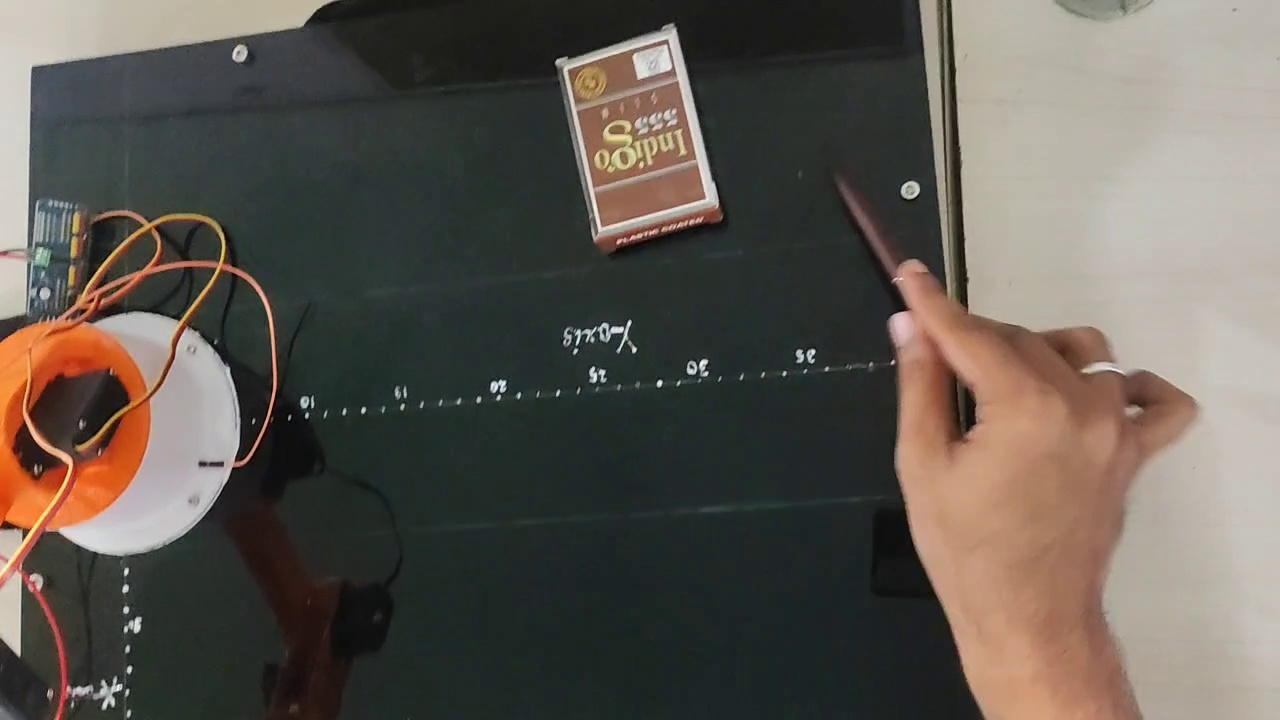BEX: (567, 38, 712, 231)
